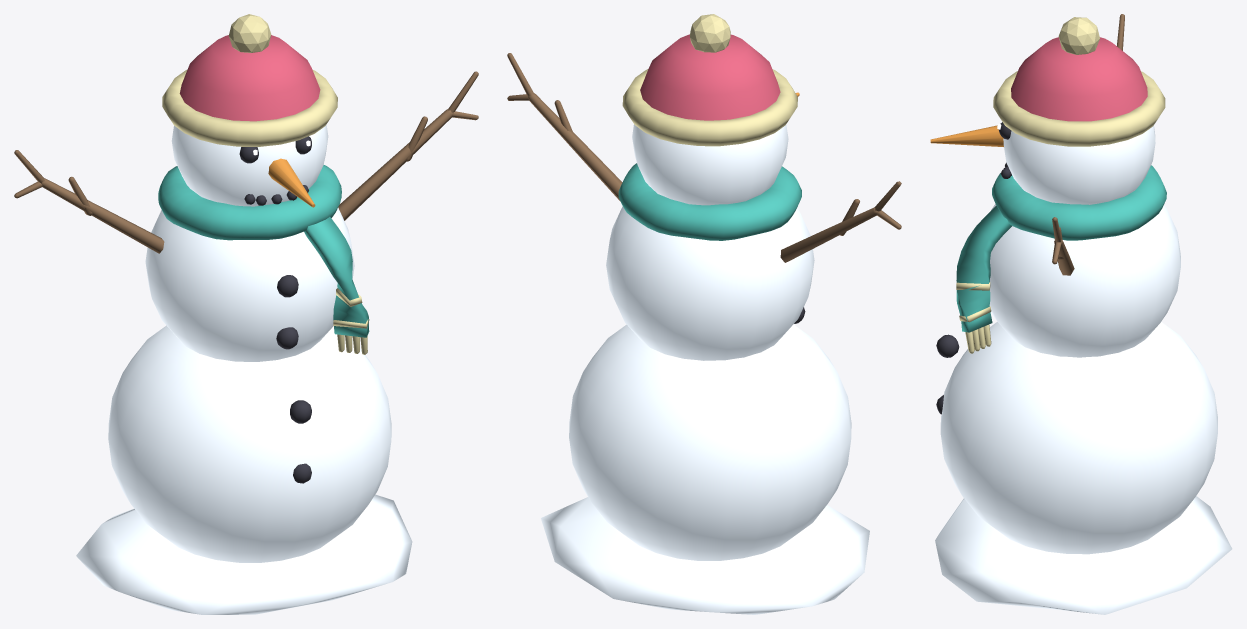
Rendered from snowman.glb.
3 views of the same model, side by side, from view 1: azimuth 30°, elevation 25°; view 2: azimuth 150°, elevation 25°; view 3: azimuth 270°, elevation 25° (orthographic). The views are drawn at different scales.
Parts seen in each view (by area): view 1: snowman; view 2: snowman; view 3: snowman.
Boxes of the visible parts, x1=… form: snowman: x1=14, y1=14, x2=478, y2=614; snowman: x1=507, y1=14, x2=901, y2=614; snowman: x1=930, y1=14, x2=1232, y2=614.
Size of the model in its own units: 1.04 by 1.29 by 0.648.
